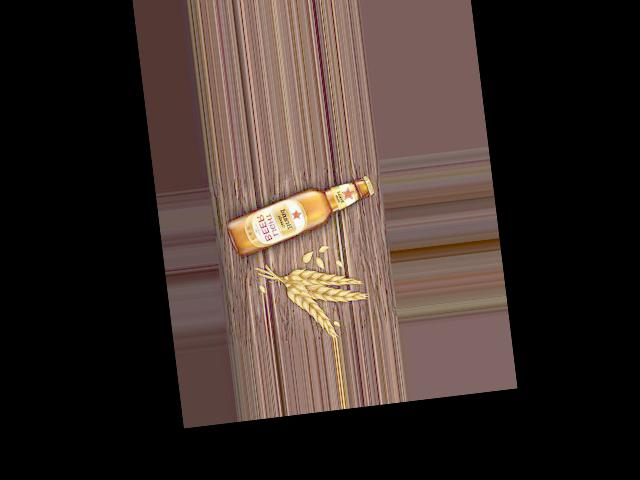beer: (223, 174, 380, 256)
